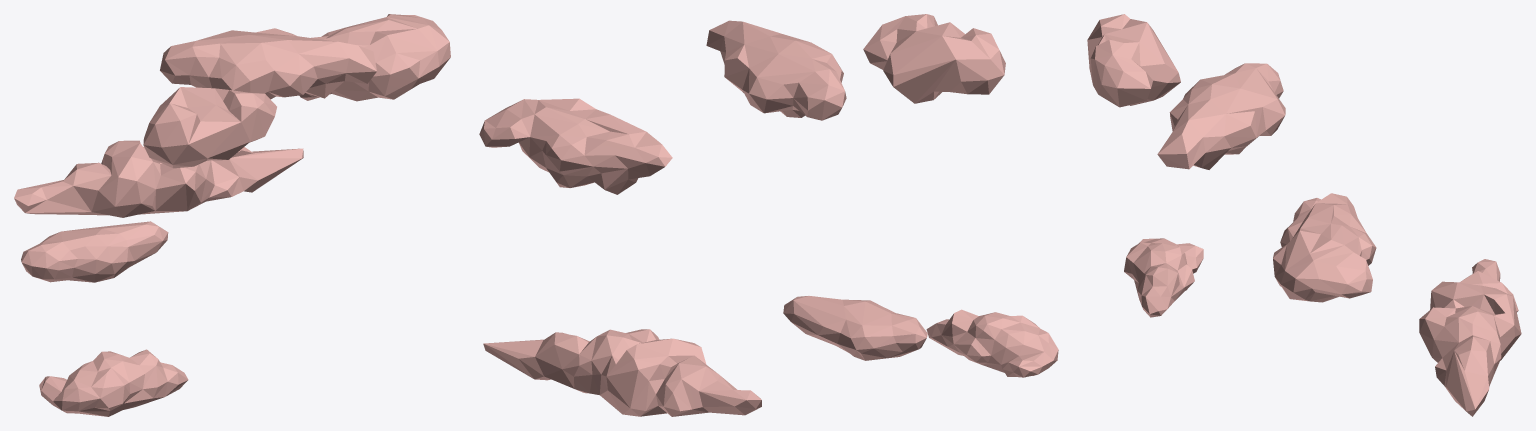
Rendered from cloudClose.glb.
3 renders of one model, left to right at view 1: azimuth 30°, elevation 25°; view 2: azimuth 150°, elevation 25°; view 3: azimuth 270°, elevation 25°, orthographic. The views are drawn at different scales.
Parts seen in each view (by area): view 1: Icosphere.004, Icosphere.007, Icosphere.003, Icosphere.005, Icosphere.009, Icosphere.006; view 2: Icosphere.004, Icosphere.005, Icosphere.007, Icosphere.003, Icosphere.006, Icosphere.009; view 3: Icosphere.004, Icosphere.007, Icosphere.005, Icosphere.003, Icosphere.009, Icosphere.006.
Boxes of the visible parts, x1,y1,x2,y2 form: Icosphere.004: [14, 140, 303, 217]; Icosphere.007: [160, 28, 376, 99]; Icosphere.003: [143, 87, 276, 168]; Icosphere.005: [299, 14, 450, 101]; Icosphere.009: [39, 349, 188, 416]; Icosphere.006: [21, 221, 168, 282]; Icosphere.004: [483, 329, 761, 416]; Icosphere.005: [479, 98, 672, 194]; Icosphere.007: [706, 20, 846, 120]; Icosphere.003: [863, 14, 1005, 103]; Icosphere.006: [783, 296, 927, 360]; Icosphere.009: [926, 309, 1058, 377]; Icosphere.004: [1419, 259, 1521, 416]; Icosphere.007: [1157, 63, 1285, 169]; Icosphere.005: [1273, 193, 1376, 302]; Icosphere.003: [1087, 14, 1180, 107]; Icosphere.009: [1124, 238, 1203, 317]; Icosphere.006: [1280, 198, 1320, 247].
Bounding box in the file's own units: 5.11 × 3.17 × 4.14.
